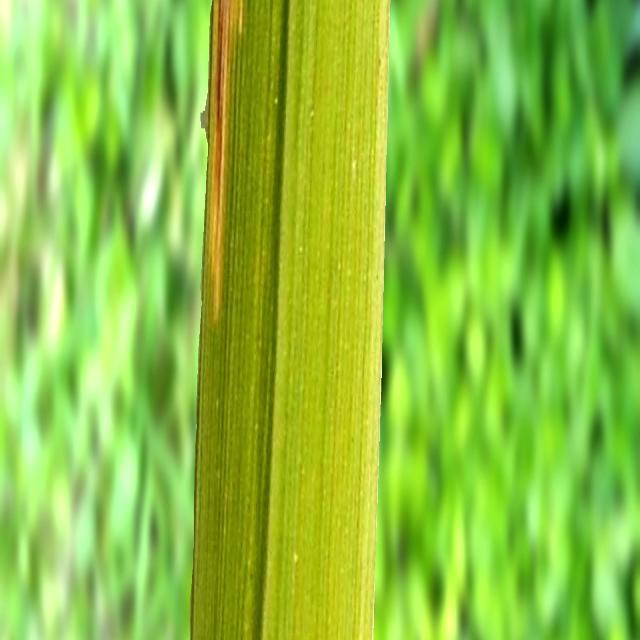BLS: (211, 0, 236, 315)
